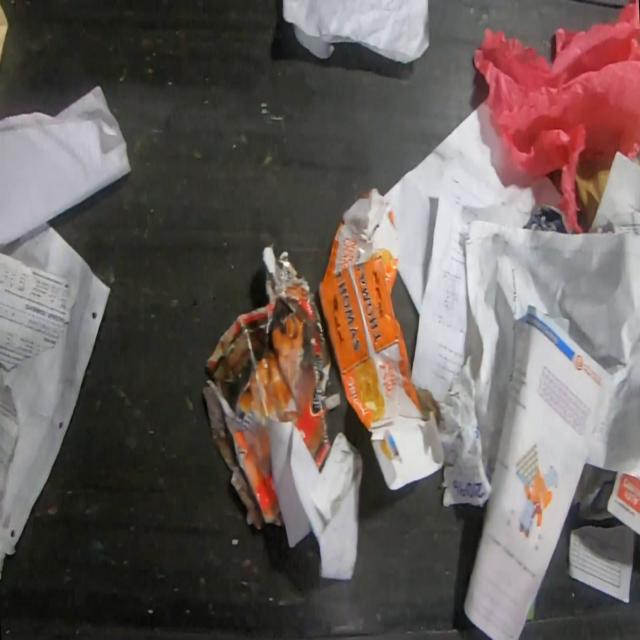cardboard: (199, 241, 344, 531), (316, 186, 448, 492), (575, 154, 613, 231)
soft_plastic: (472, 1, 640, 234)
